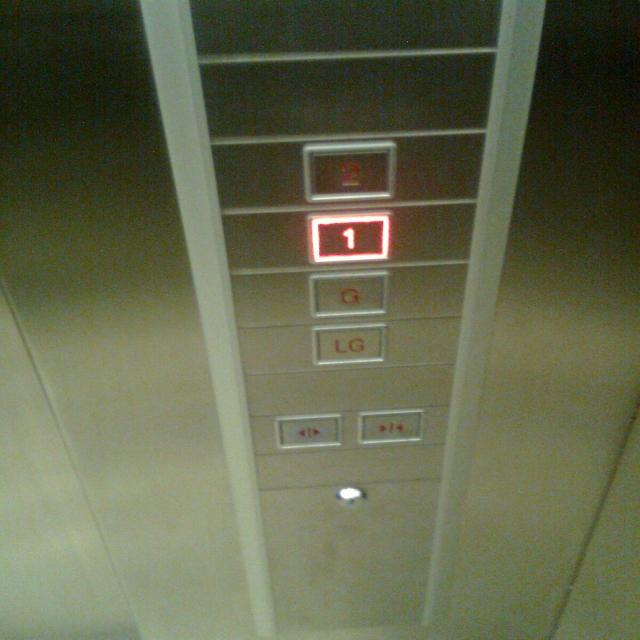1: (304, 210, 394, 264)
2: (300, 140, 398, 202)
G: (307, 270, 389, 320)
LG: (311, 322, 388, 366)
close: (355, 408, 425, 444)
open: (274, 412, 344, 449)
